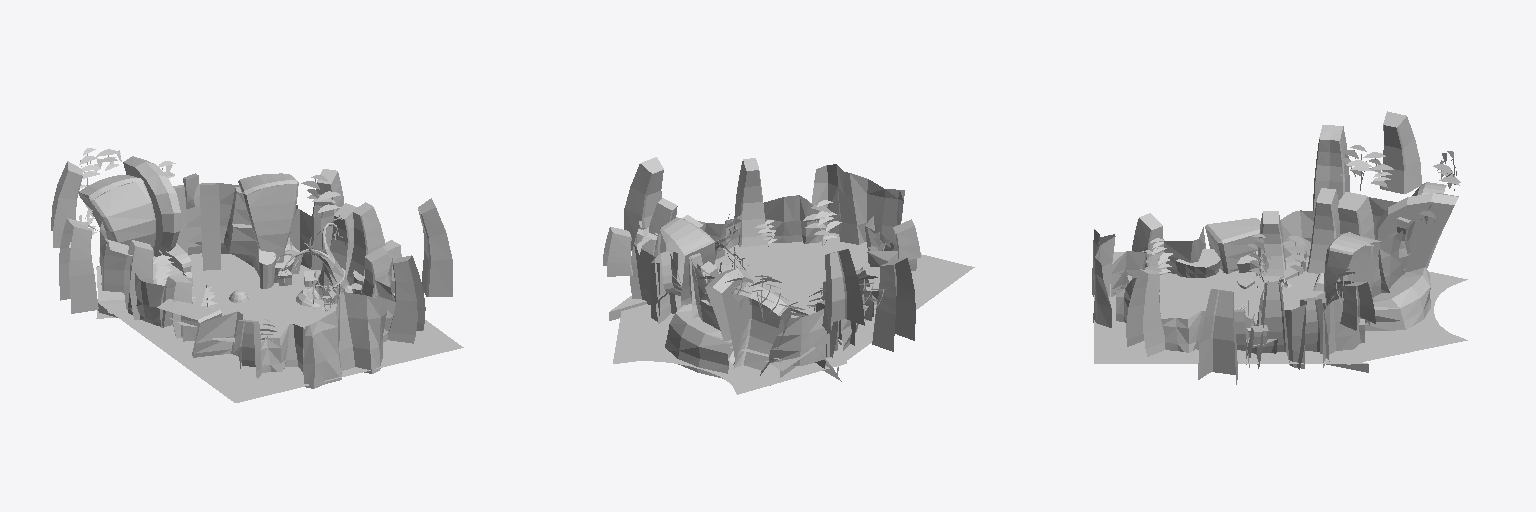
The model's file is kappa_pond_bg.obj.
The picture shows the model from 3 angles: view 1: azimuth 30°, elevation 25°; view 2: azimuth 150°, elevation 25°; view 3: azimuth 270°, elevation 25°; orthographic projection.
Bounding box in the file's own units: 3644 × 1650 × 3557.